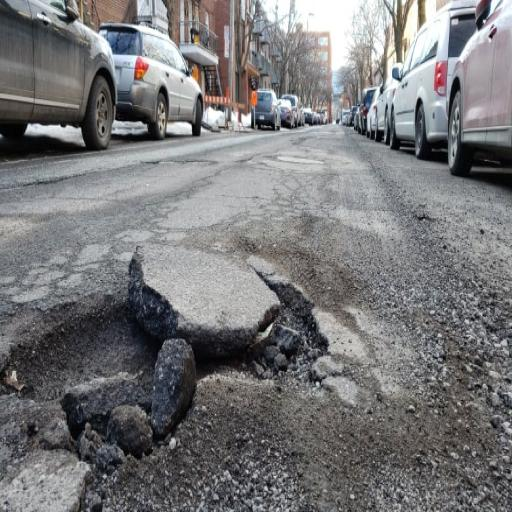pothole: (91, 258, 287, 450)
